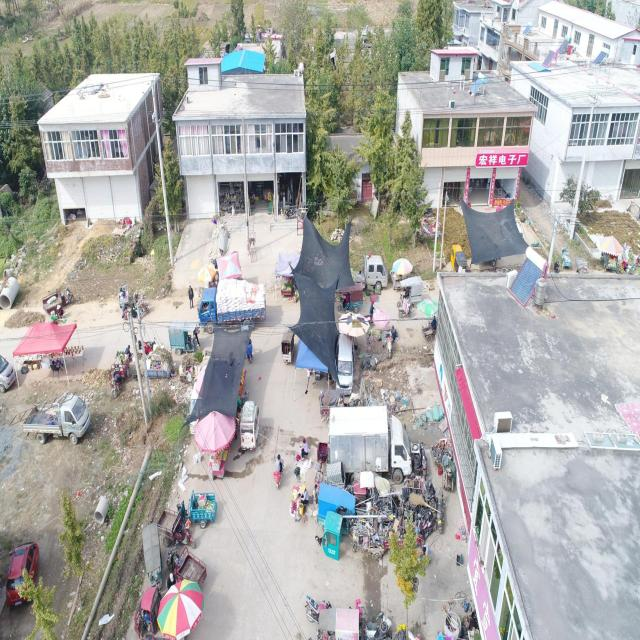car: (6, 542, 40, 608)
person: (300, 437, 308, 459), (246, 339, 253, 363), (188, 285, 194, 309)
